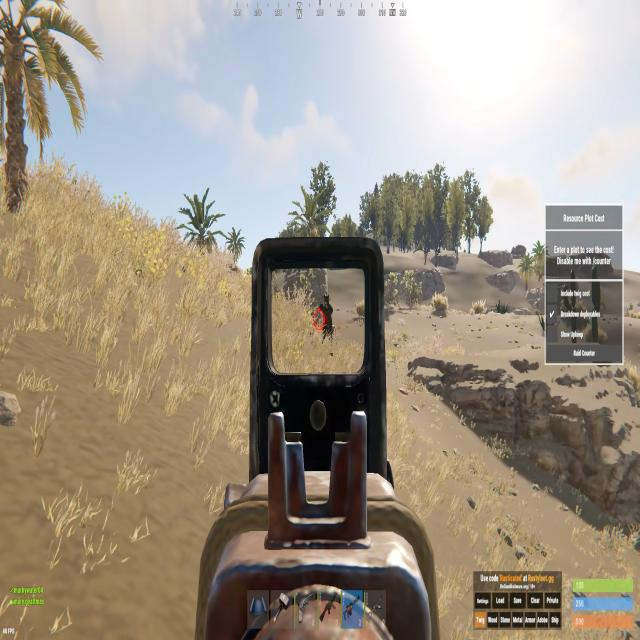Player: (319, 294, 334, 336)
